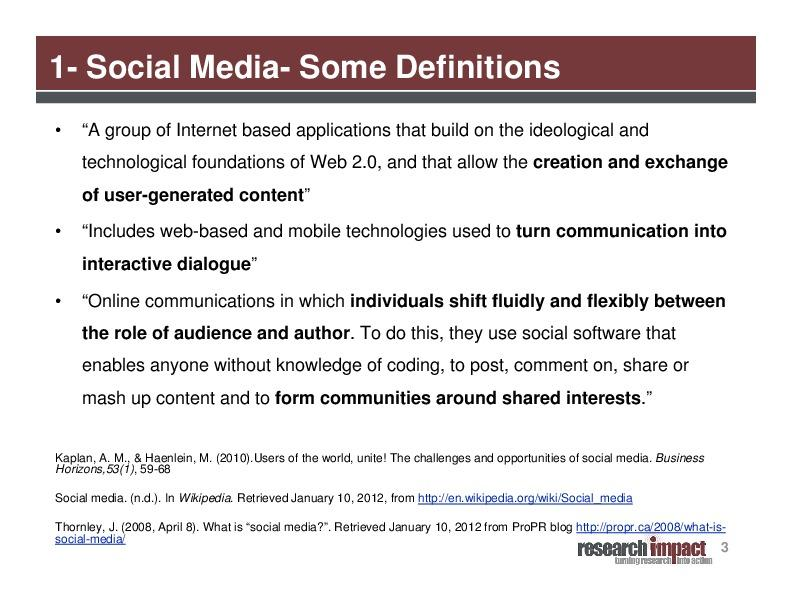paragraph: (39, 108, 777, 577)
title: (44, 39, 580, 98)
